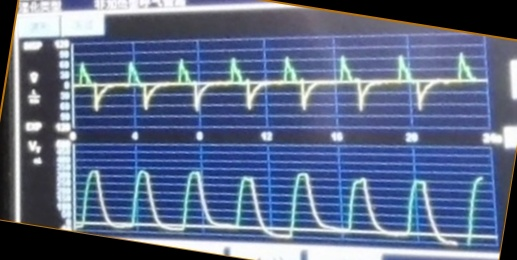Accumulation Flow: (75, 49, 484, 115)
Volume: (77, 163, 488, 244)
